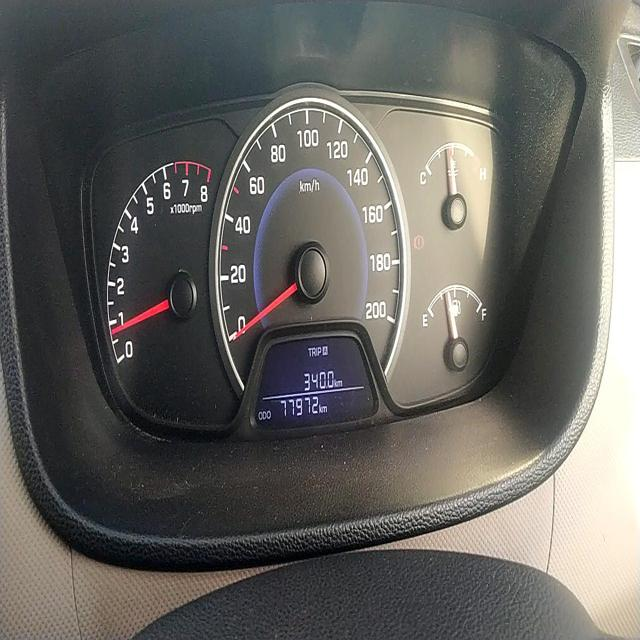odometer: (276, 392, 320, 420)
